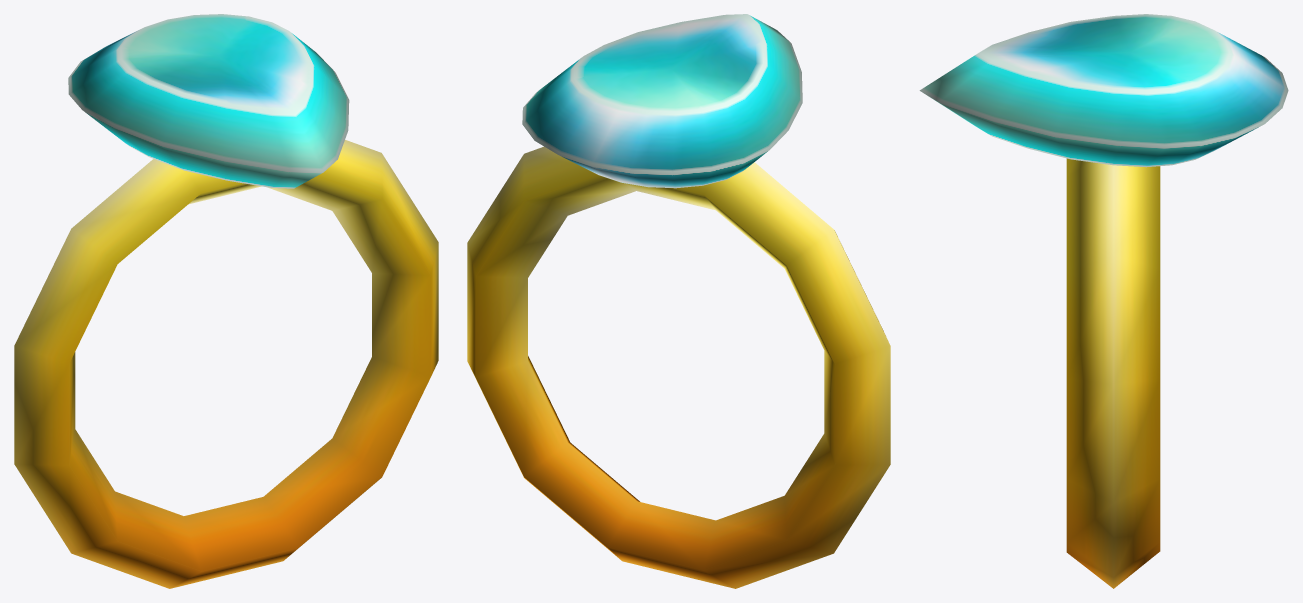
Rendered from sapphireRing.fbx.
3 renders of one model, left to right at view 1: azimuth 30°, elevation 25°; view 2: azimuth 150°, elevation 25°; view 3: azimuth 270°, elevation 25°, orthographic.
Visible parts, largest first — view 1: sapphireRing; view 2: sapphireRing; view 3: sapphireRing.
Part boxes in pixels (bbox=[...]): sapphireRing: bbox=[14, 14, 438, 588]; sapphireRing: bbox=[467, 14, 890, 588]; sapphireRing: bbox=[919, 14, 1288, 588].
Size of the model in its own units: 3.83 by 4.43 by 2.91.
